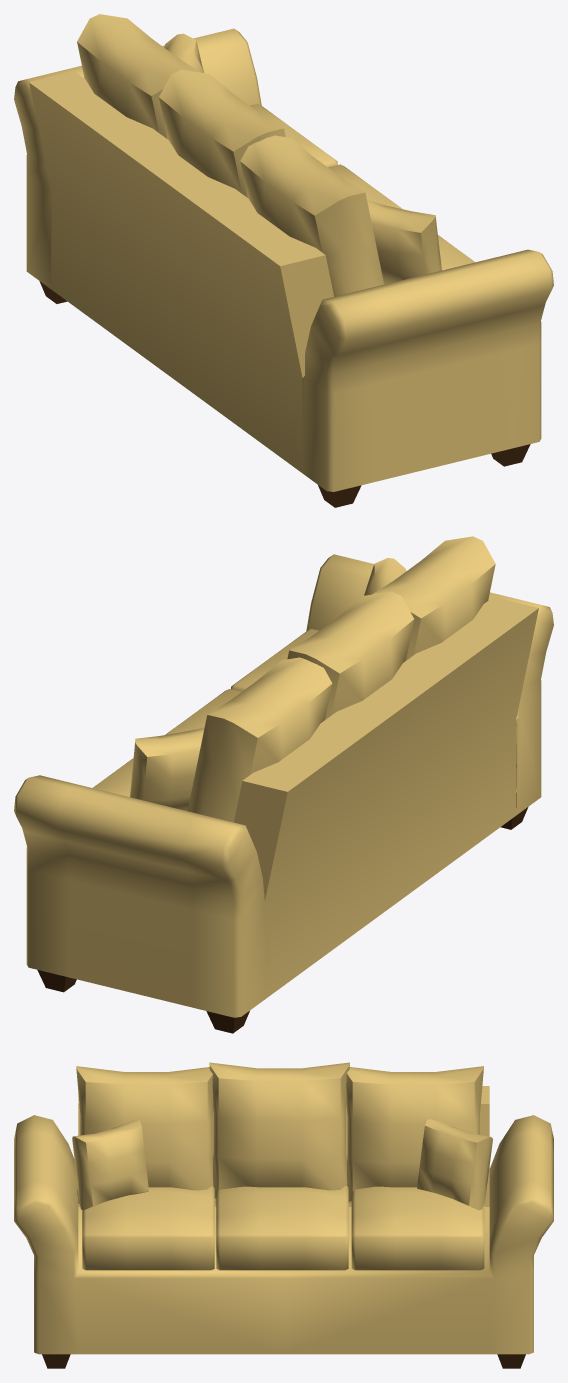
The model's file is couch.fbx.
3 views of the same model, one above another, from view 1: azimuth 30°, elevation 25°; view 2: azimuth 150°, elevation 25°; view 3: azimuth 270°, elevation 25° (orthographic). The views are drawn at different scales.
Parts seen in each view (by area): view 1: Cube.006; view 2: Cube.006; view 3: Cube.006.
Boxes of the visible parts, x1,y1,x2,y2 form: Cube.006: (14,14,553,507); Cube.006: (14,536,553,1033); Cube.006: (14,1062,553,1368).
Size of the model in its own units: 221 by 263 by 533.
